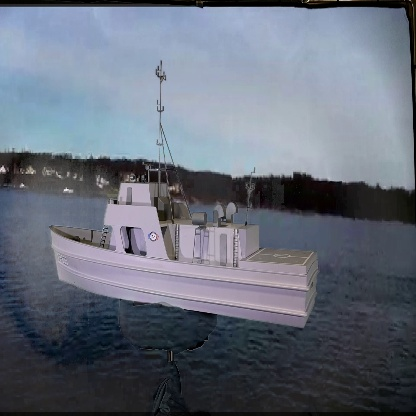YP689: (50, 60, 319, 332)
